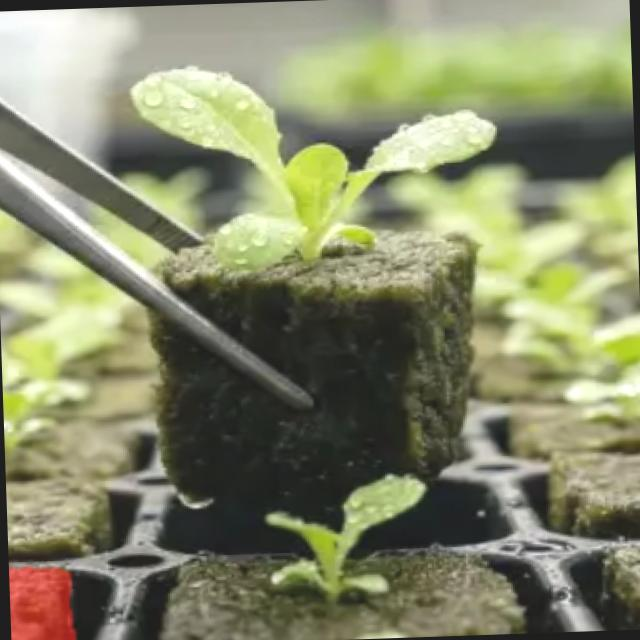verde: (133, 68, 496, 268), (266, 474, 427, 601)
